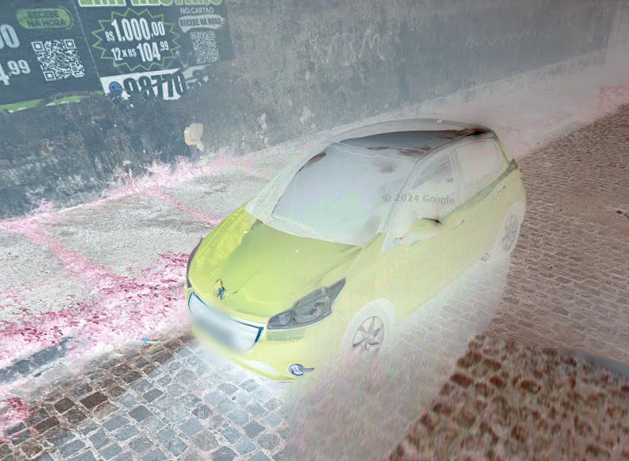car: (182, 114, 528, 386)
